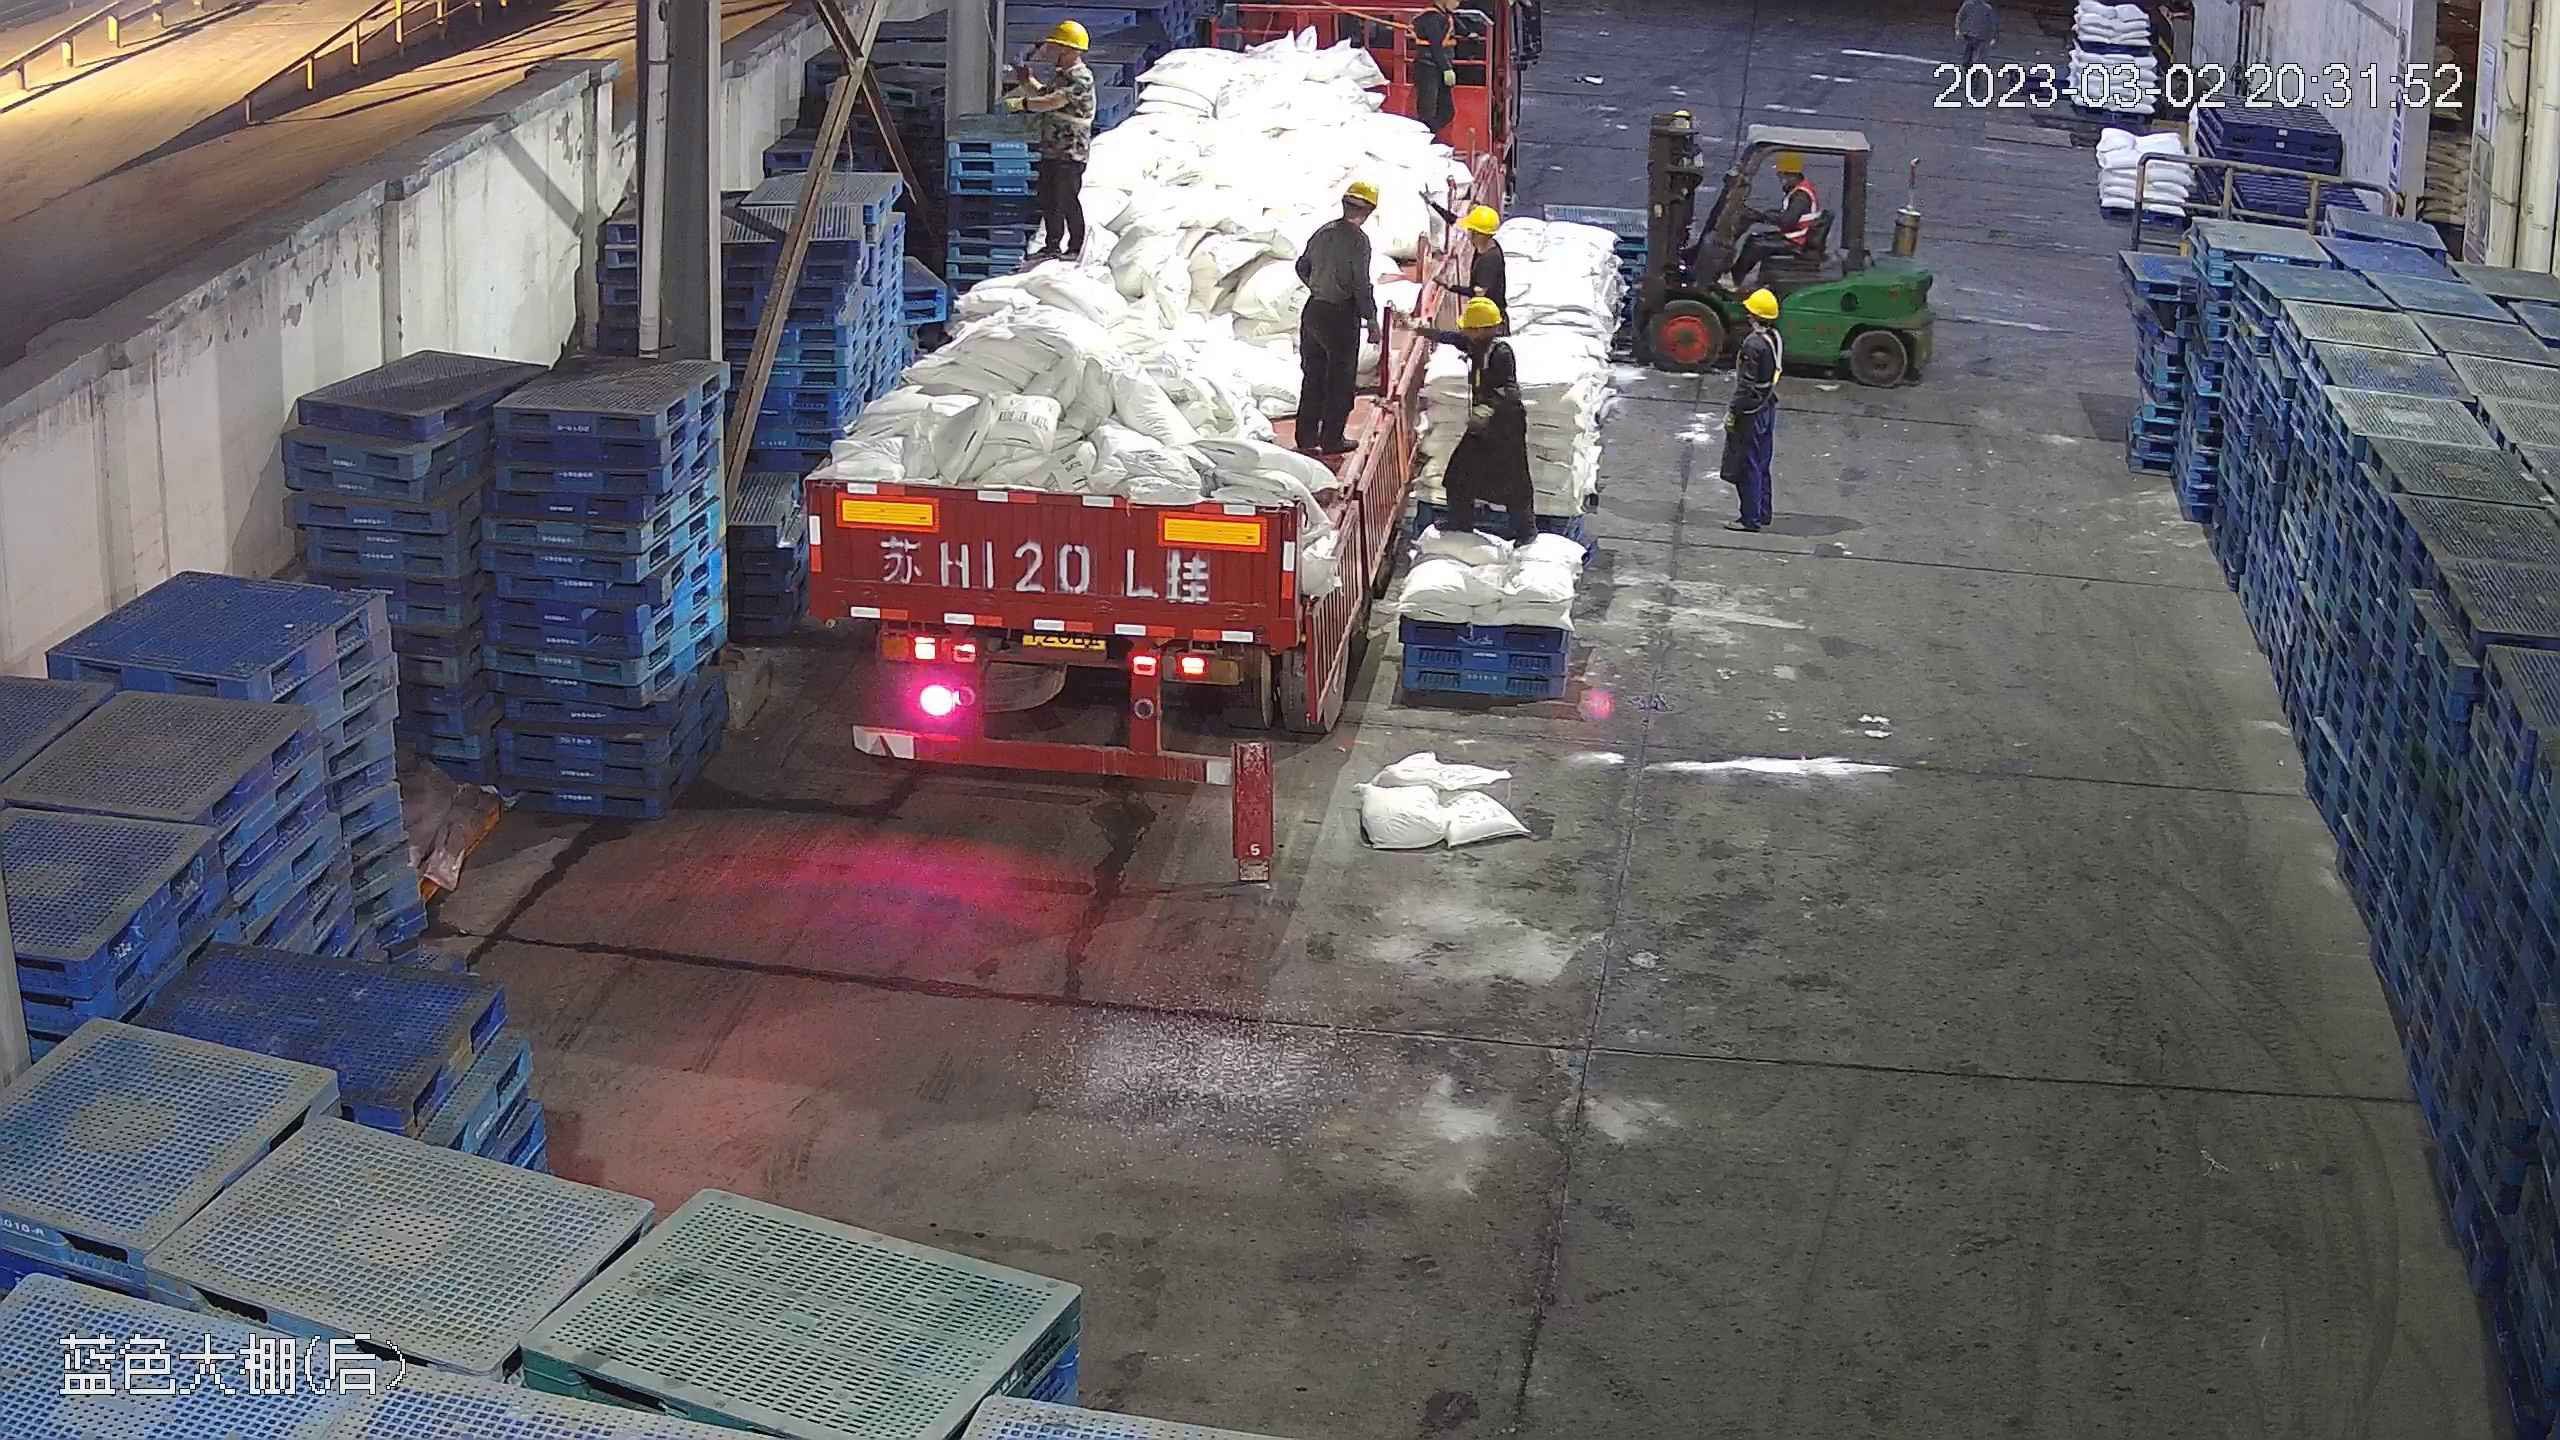belt: (1028, 62, 1086, 123), (1401, 5, 1459, 48), (1749, 328, 1784, 385), (1480, 332, 1506, 368)
head: (1304, 175, 1382, 263), (1016, 19, 1096, 100), (1449, 296, 1518, 380), (1446, 201, 1510, 280), (1726, 287, 1785, 362), (1770, 147, 1819, 210)
helmet: (1043, 18, 1091, 51), (1456, 294, 1506, 326), (1340, 176, 1383, 211), (1460, 201, 1501, 231), (1741, 288, 1779, 313), (1774, 146, 1805, 170)
people: (1285, 176, 1381, 454), (1006, 18, 1100, 264), (1440, 291, 1525, 536), (1709, 282, 1784, 533), (1730, 150, 1824, 277), (1411, 1, 1465, 134)
truck: (802, 11, 1478, 779)
